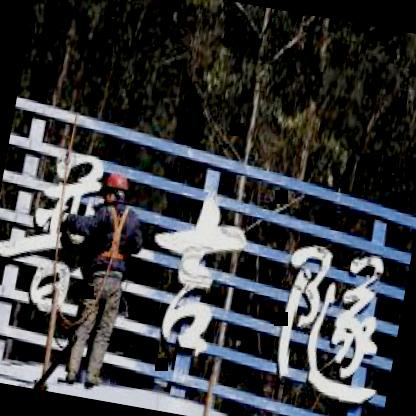helmet: (96, 169, 132, 205)
